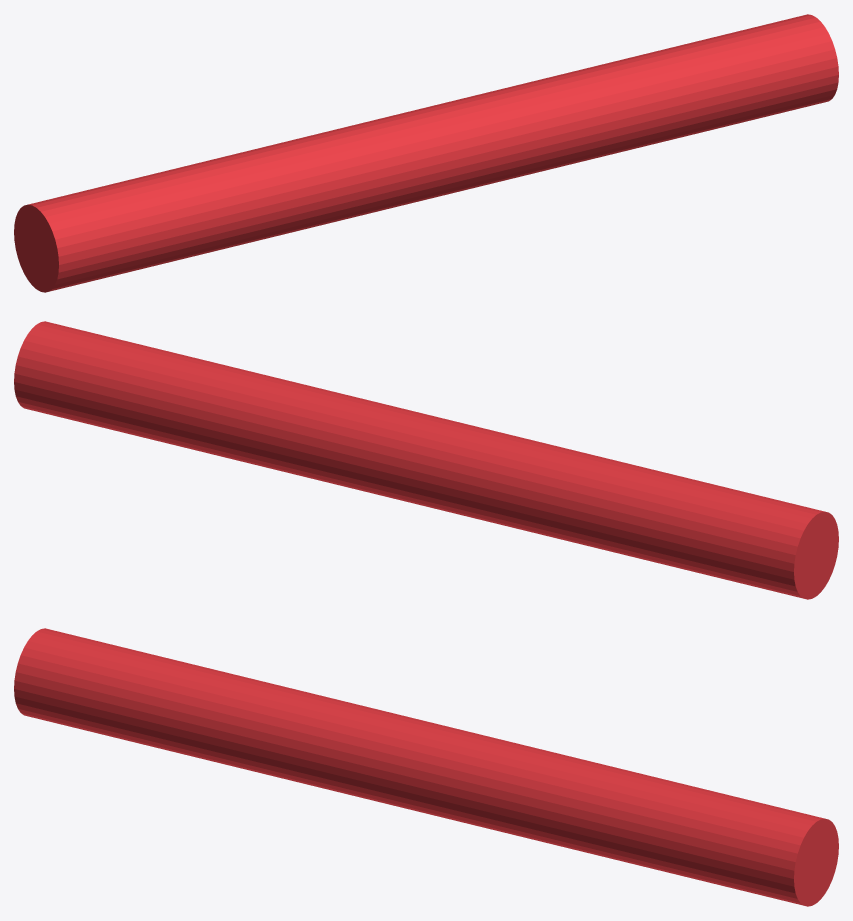
File: F2InteractablePlatform1Rail.fbx
The picture shows the model from 3 angles, top to bottom: view 1: azimuth 30°, elevation 25°; view 2: azimuth 150°, elevation 25°; view 3: azimuth 330°, elevation 25°; orthographic projection.
Visible parts, largest first — view 1: WallRail; view 2: WallRail; view 3: WallRail.
Part boxes in pixels (x1,y1,x2,y2): WallRail: (14,14,838,292); WallRail: (14,321,838,599); WallRail: (14,628,838,906).
Size of the model in its own units: 50 by 5 by 5.
